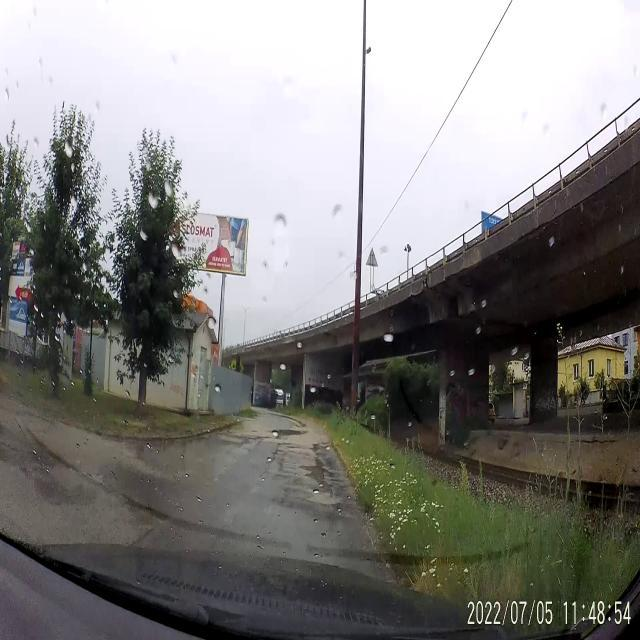Pothole: (301, 457, 333, 492), (270, 427, 308, 442), (309, 437, 334, 455)
